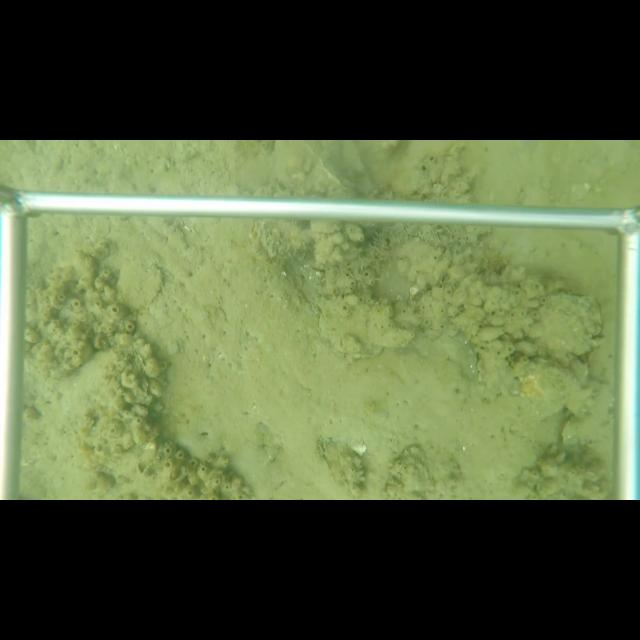Oyster-Closed: (525, 284, 607, 368), (313, 294, 389, 361), (115, 259, 167, 317), (306, 143, 357, 192)
